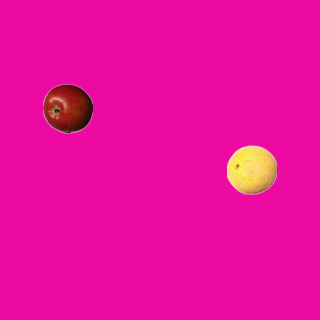Apple Braeburn: (42, 83, 92, 133)
Cantaloupe 1: (226, 144, 276, 194)
